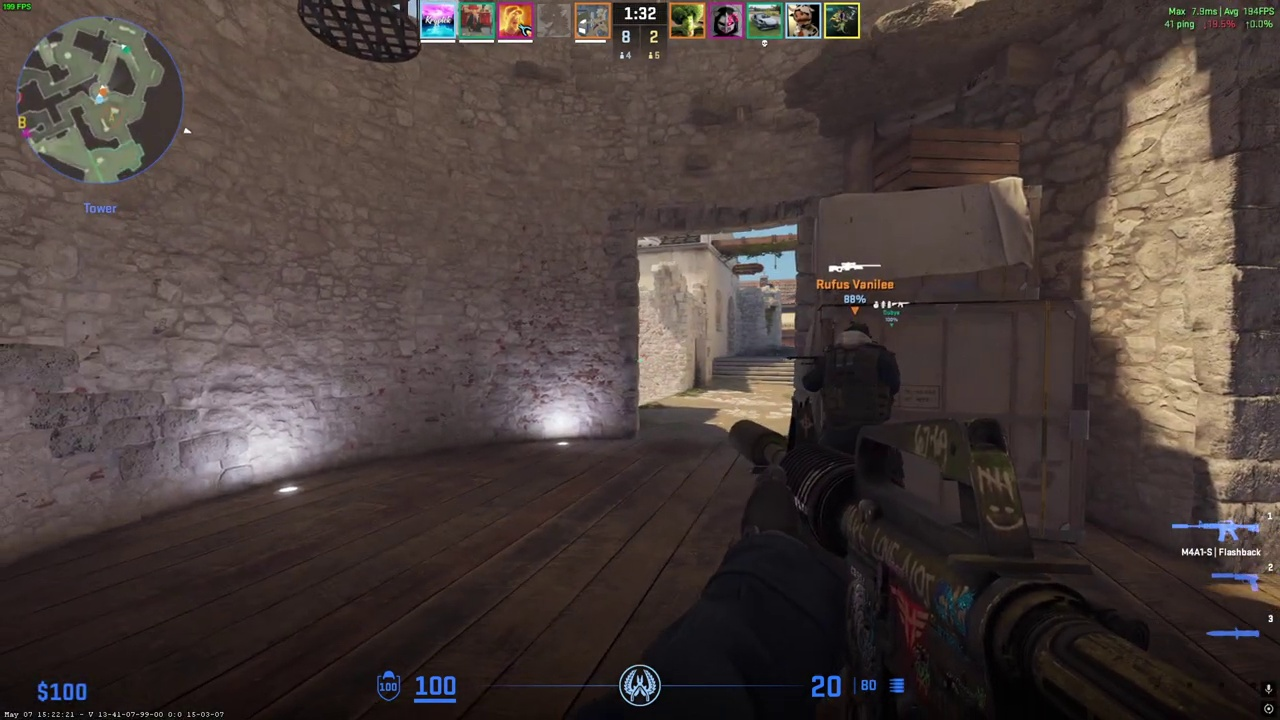CT: (806, 321, 901, 455)
